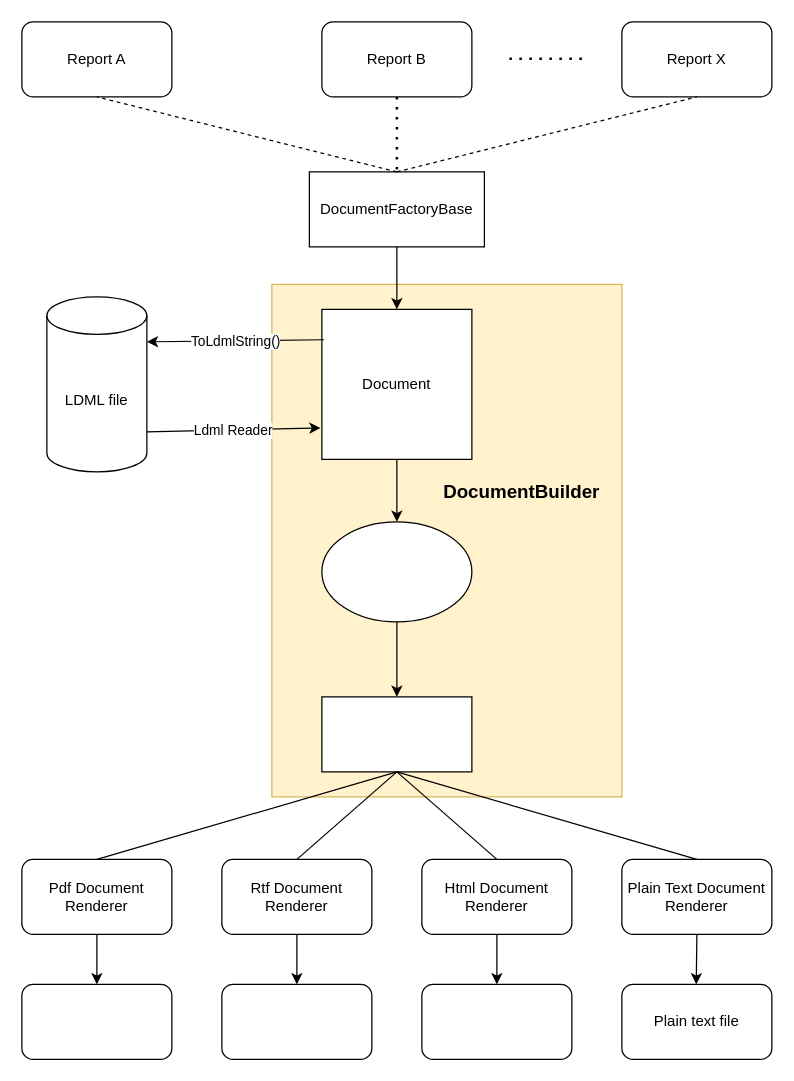
Image size: 794x1081. Some labels were removed from this diagram. The shapes that lost their labels are listed below. From the top down, each one's box as (x1, y1, x2, y2) in pixels, then its label:
(321, 521, 472, 622): Ldml Calculator
(321, 696, 472, 772): IDocumentRenderer
(21, 983, 172, 1059): Pdf file
(221, 983, 372, 1059): Rtf file
(421, 983, 572, 1059): Html file
